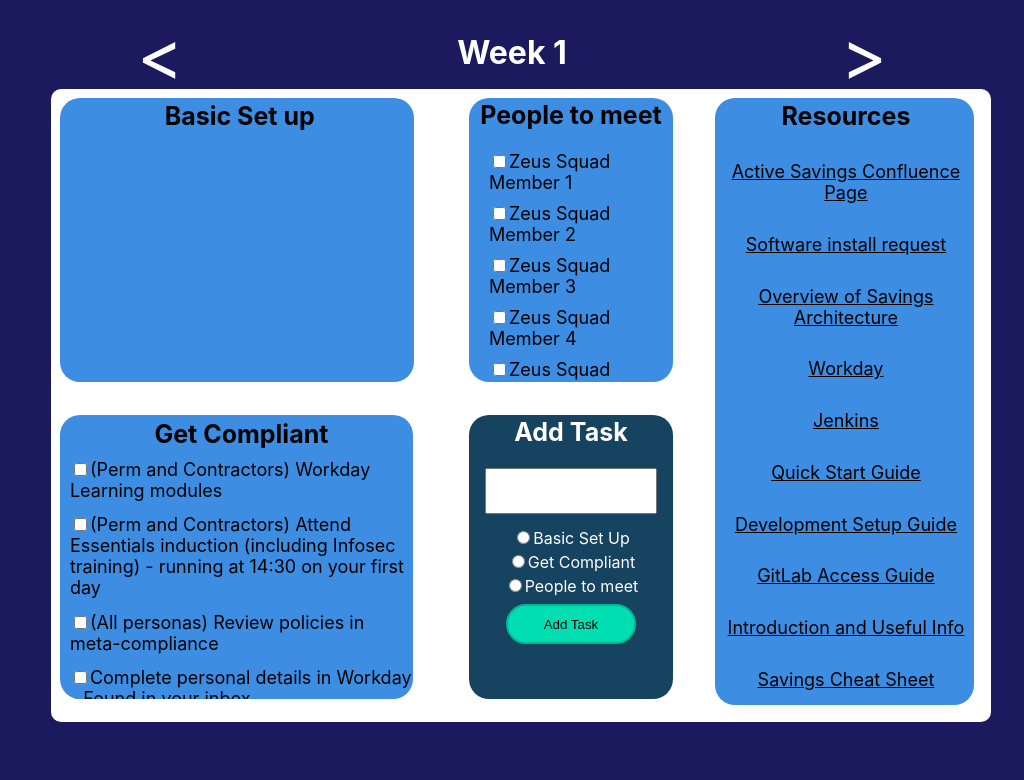
Arrows work › back arrow works
Click the text "<" at [160, 51], box top-left (137, 12), bottom-right (183, 89)
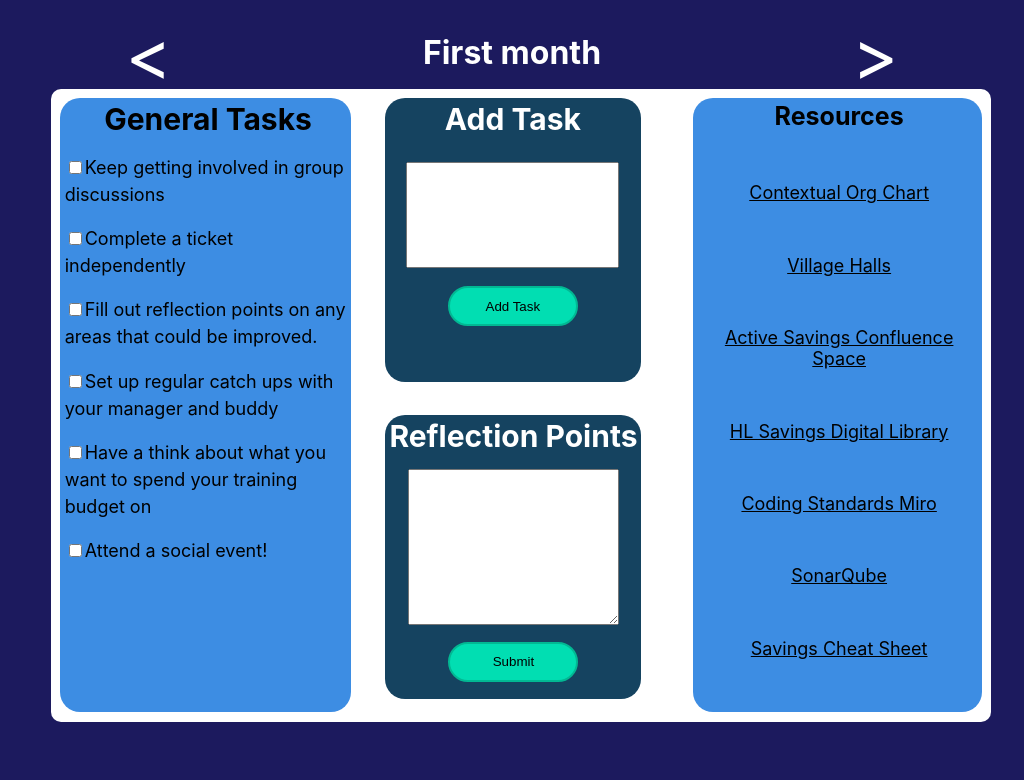
Result: the heading "First month" is shown at top-left (423, 33), bottom-right (601, 67)
